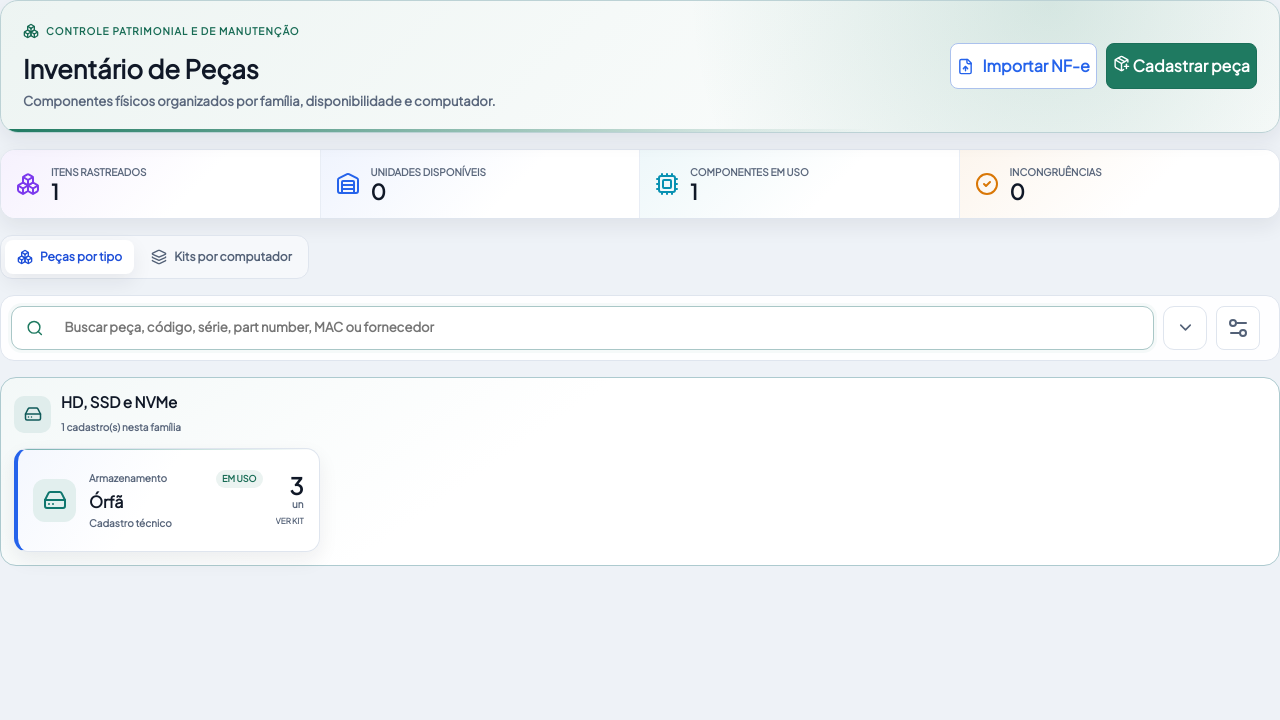
PartsInventoryPage (kits por computador) › kits por computador › peça com ativo desconhecido abre kit sem trocar de aba; sem ativo abre inspetor
Step 1. Click the button "Órfã" → coordinates (54, 500), box [14,448,320,552]
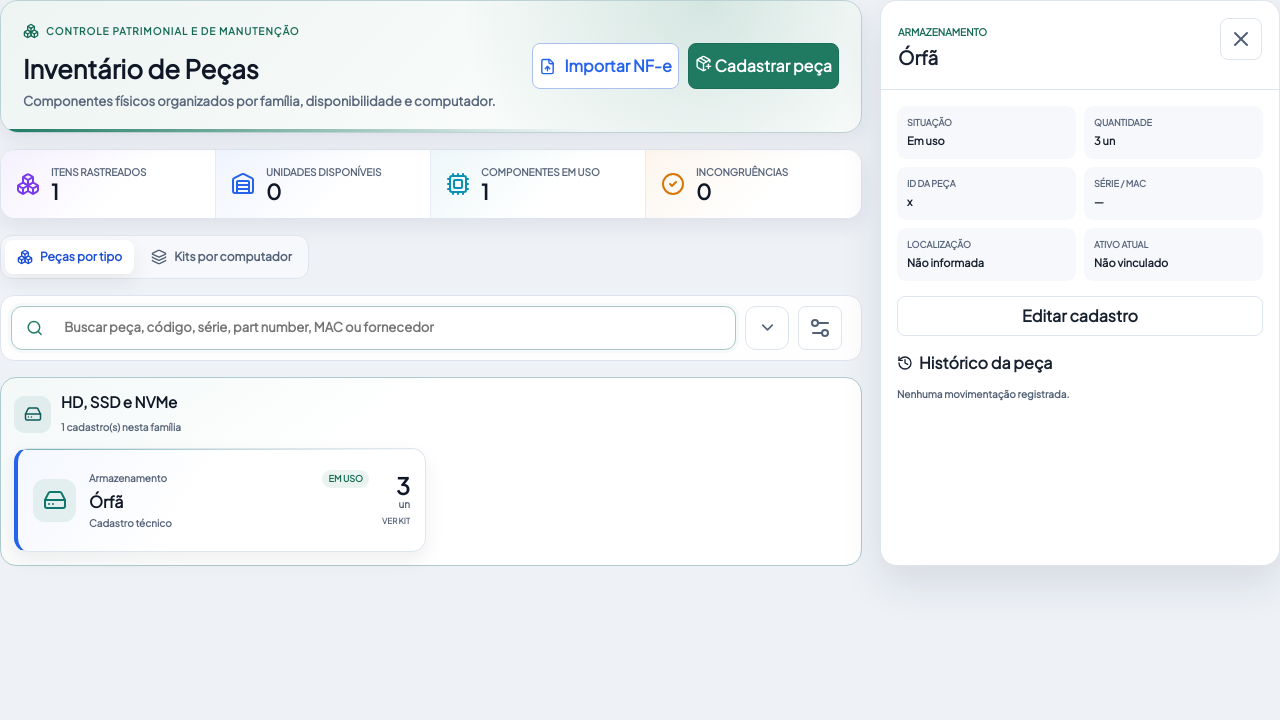
Now the heading "Órfã" is shown, box [898,46,938,69]
